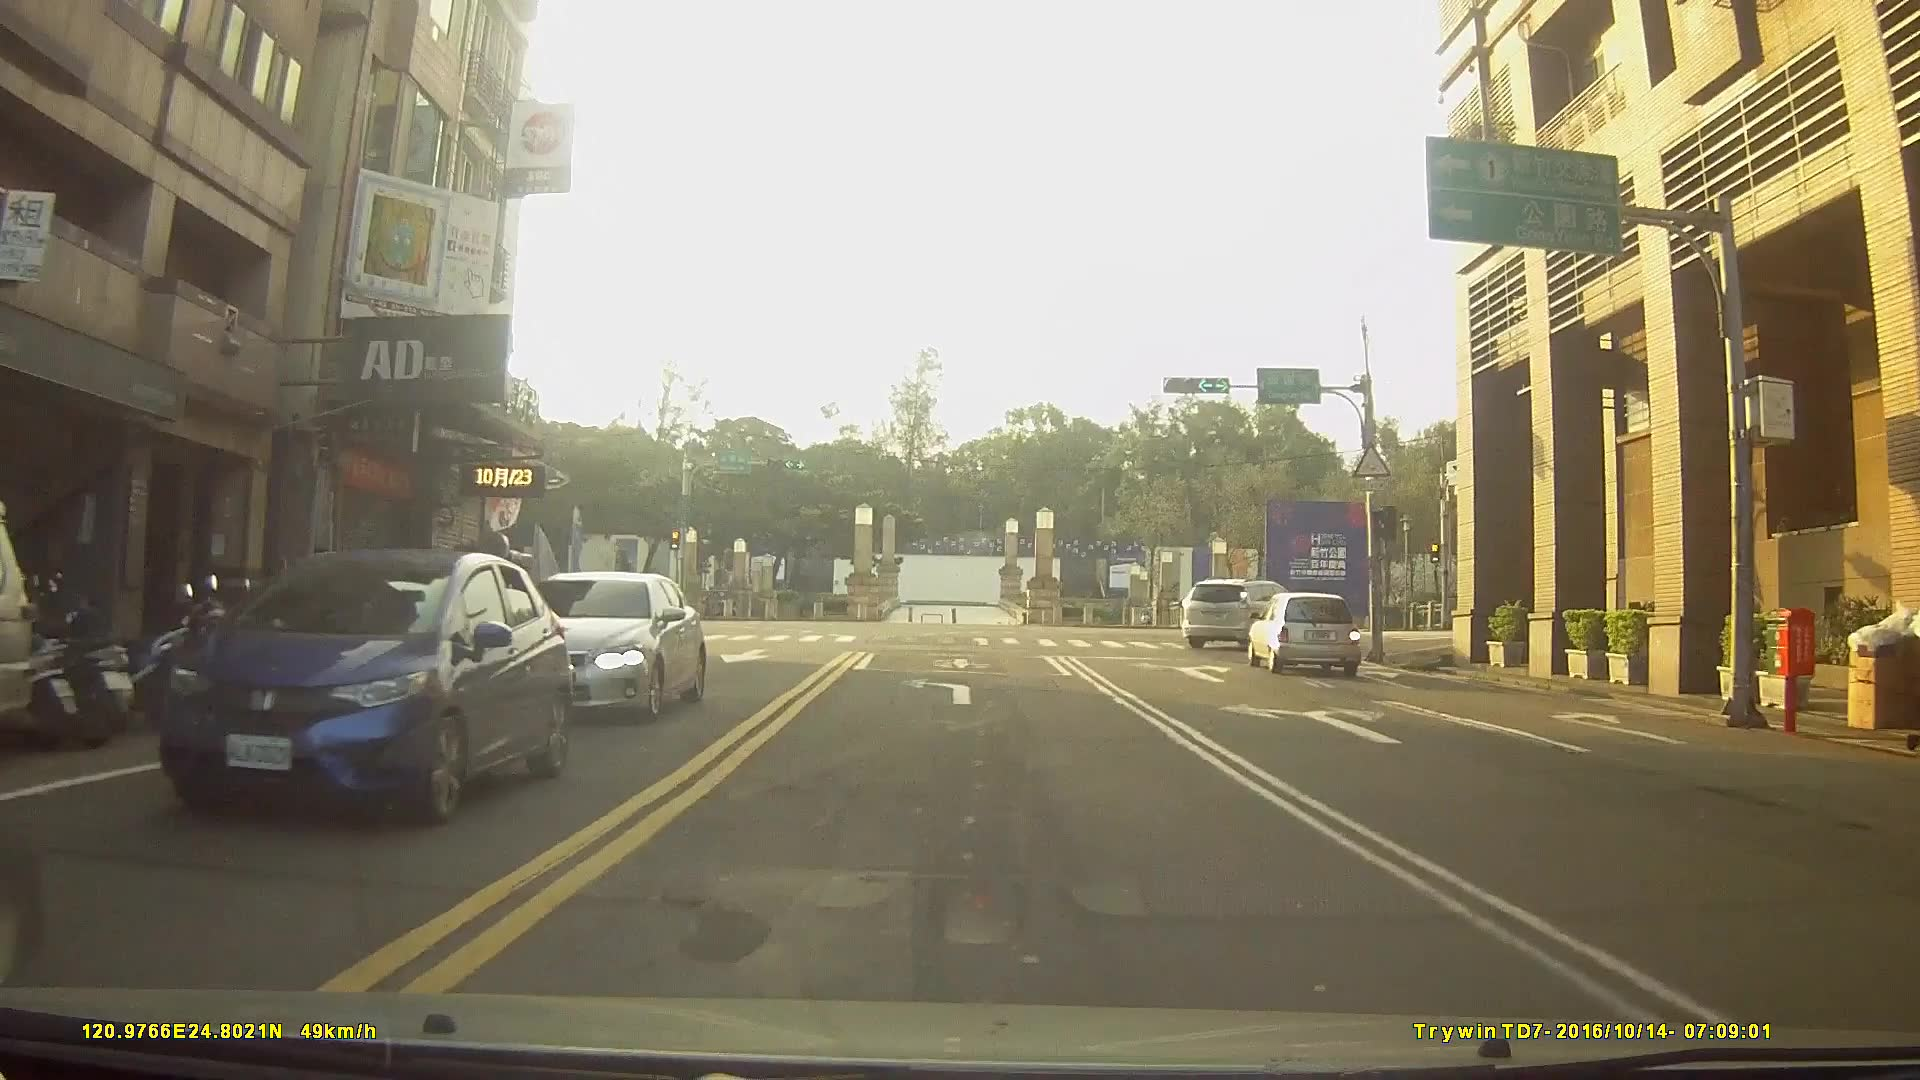vehicle: (156, 543, 572, 825), (498, 571, 703, 721), (1247, 589, 1360, 673), (1180, 578, 1304, 650)
